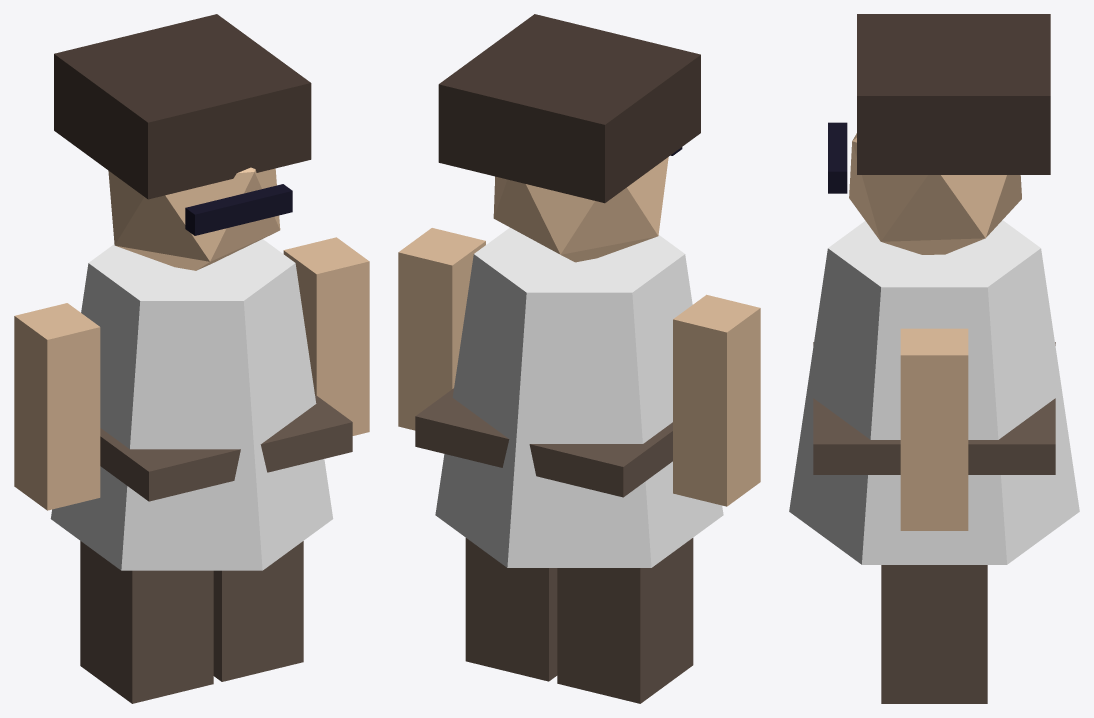
The model's file is person.glb.
3 renders of one model, left to right at view 1: azimuth 30°, elevation 25°; view 2: azimuth 150°, elevation 25°; view 3: azimuth 270°, elevation 25°, orthographic. The views are drawn at different scales.
Visible parts, largest first — view 1: tunic, detail_hair, anim_x_m70, anim_x_p55, anim_x_m55, anim_x_p70, belt, head, detail_eyes; view 2: tunic, detail_hair, anim_x_m70, anim_x_p55, anim_x_m55, anim_x_p70, belt, head; view 3: tunic, detail_hair, anim_x_p70, anim_x_m55, head, belt, detail_eyes.
Part boxes in pixels (bbox=[...]): tunic: bbox=[50, 239, 333, 570]; detail_hair: bbox=[54, 14, 311, 199]; anim_x_m70: bbox=[80, 541, 213, 703]; anim_x_p55: bbox=[14, 303, 100, 510]; anim_x_m55: bbox=[283, 237, 369, 435]; anim_x_p70: bbox=[213, 541, 303, 681]; belt: bbox=[100, 394, 352, 501]; head: bbox=[108, 167, 280, 270]; detail_eyes: bbox=[185, 184, 292, 235]; tunic: bbox=[435, 227, 723, 567]; detail_hair: bbox=[438, 14, 700, 203]; anim_x_m70: bbox=[557, 538, 693, 703]; anim_x_p55: bbox=[673, 294, 760, 506]; anim_x_m55: bbox=[398, 228, 485, 430]; anim_x_p70: bbox=[465, 538, 557, 681]; belt: bbox=[415, 388, 672, 497]; head: bbox=[493, 157, 668, 262]; tunic: bbox=[789, 220, 1079, 564]; detail_hair: bbox=[857, 14, 1050, 174]; anim_x_p70: bbox=[881, 565, 987, 703]; anim_x_m55: bbox=[900, 328, 968, 530]; head: bbox=[849, 133, 1021, 254]; belt: bbox=[813, 342, 1055, 474]; detail_eyes: bbox=[828, 122, 847, 193].
Size of the model in its own units: 0.395 by 0.69 by 0.3.
